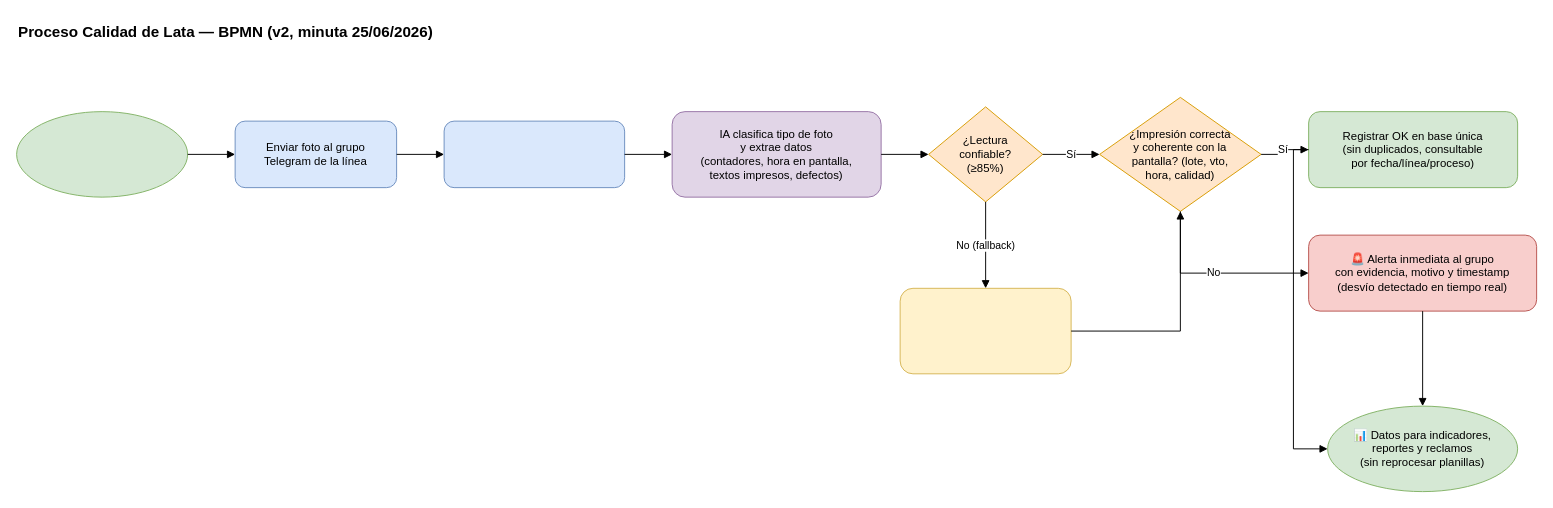
Image size: 1553x508. Some labels were removed from this diagram. The shapes that lost their labels are listed below. From the top down, each one's centre as x and y in pixels, then its label:
[102,154]: ⏱ Cada hora: operario fotografía (tapa, fondo, pantalla, frente)
[534,154]: Sistema recibe, conserva imagen original y registra hora de envío
[985,330]: Revisión manual: operador confirma / corrige / rechaza (queda autor + hora)
